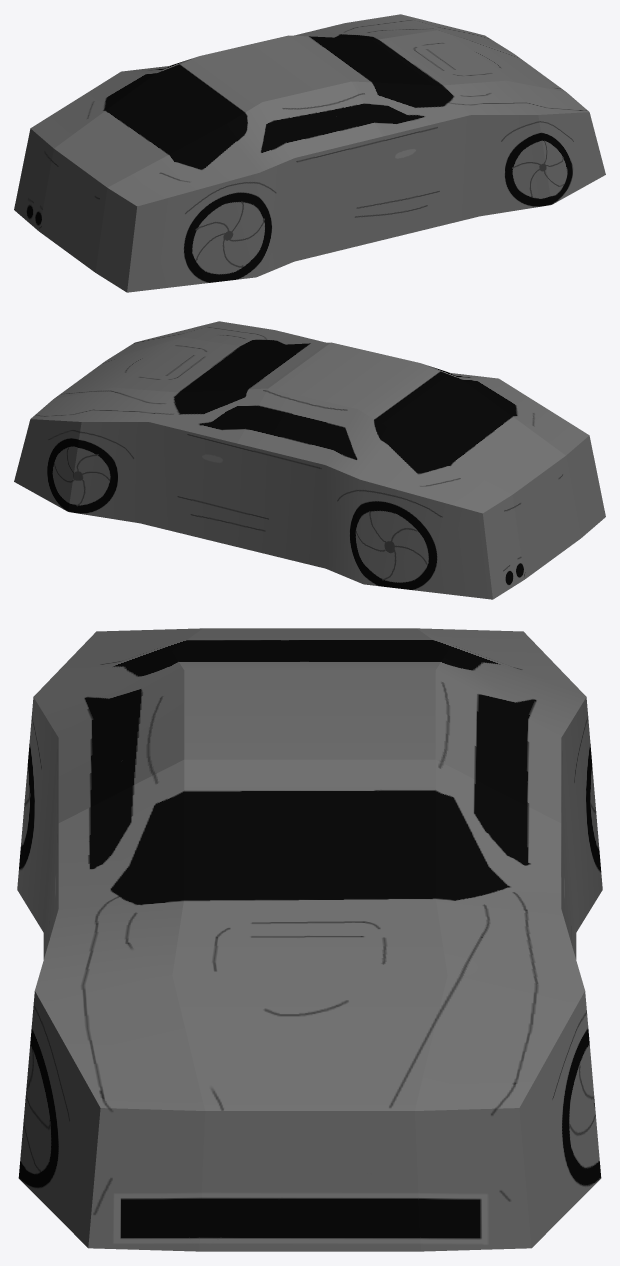
File: Car1.fbx
The picture shows the model from 3 angles, top to bottom: view 1: azimuth 30°, elevation 25°; view 2: azimuth 150°, elevation 25°; view 3: azimuth 270°, elevation 25°; orthographic projection. The views are drawn at different scales.
Parts seen in each view (by area): view 1: Mesh_Car1; view 2: Mesh_Car1; view 3: Mesh_Car1.
Part boxes in pixels (left/top/right/bottom): Mesh_Car1: left=14, top=14, right=605, bottom=292; Mesh_Car1: left=14, top=321, right=605, bottom=599; Mesh_Car1: left=17, top=628, right=602, bottom=1251.
Size of the model in its own units: 2.85 by 0.7435 by 1.48.
